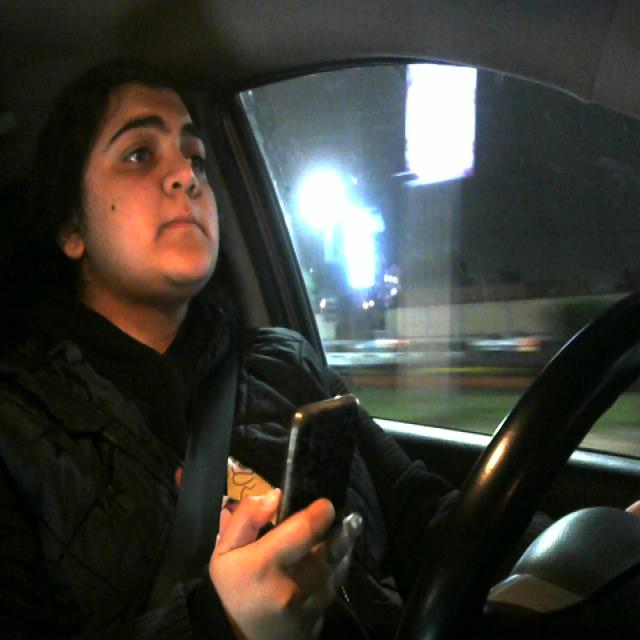mobile use: (278, 387, 362, 625)
